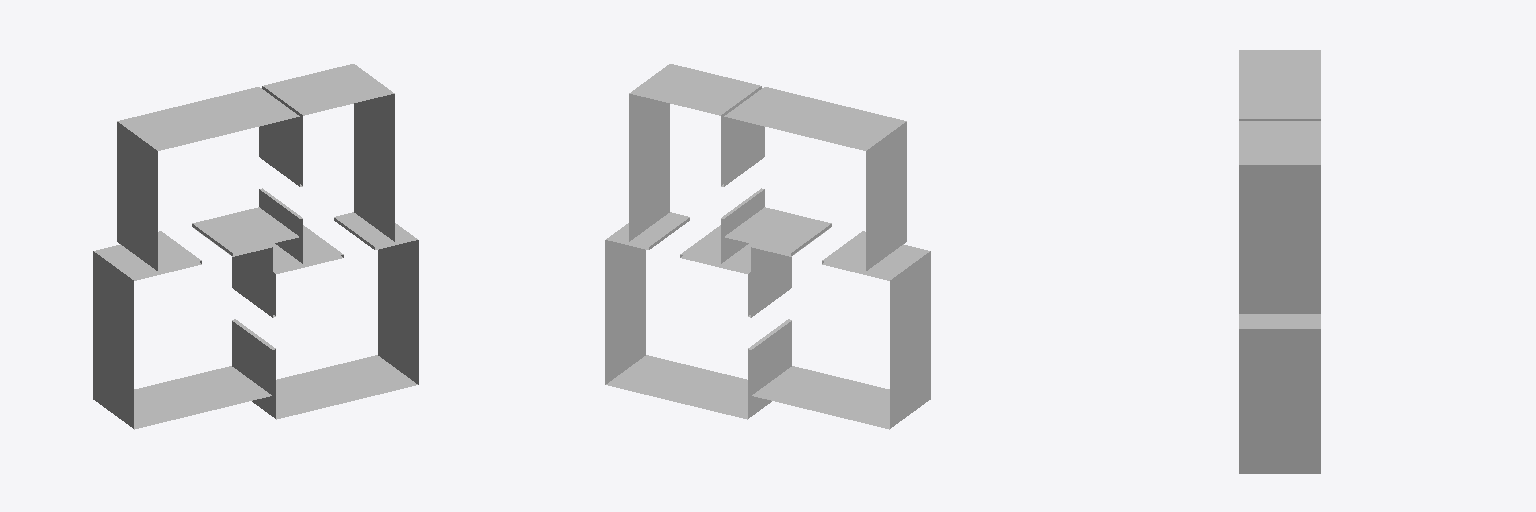
File: FourRooms_Walls.obj
The picture shows the model from 3 angles: view 1: azimuth 30°, elevation 25°; view 2: azimuth 150°, elevation 25°; view 3: azimuth 270°, elevation 25°; orthographic projection.
Parts seen in each view (by area): view 1: Walls.002; view 2: Walls.002; view 3: Walls.002.
Part boxes in pixels (x1,y1,x2,y2): Walls.002: (93, 64, 418, 429); Walls.002: (605, 64, 930, 429); Walls.002: (1239, 50, 1320, 473).
Size of the model in its own units: 12 by 12 by 3.